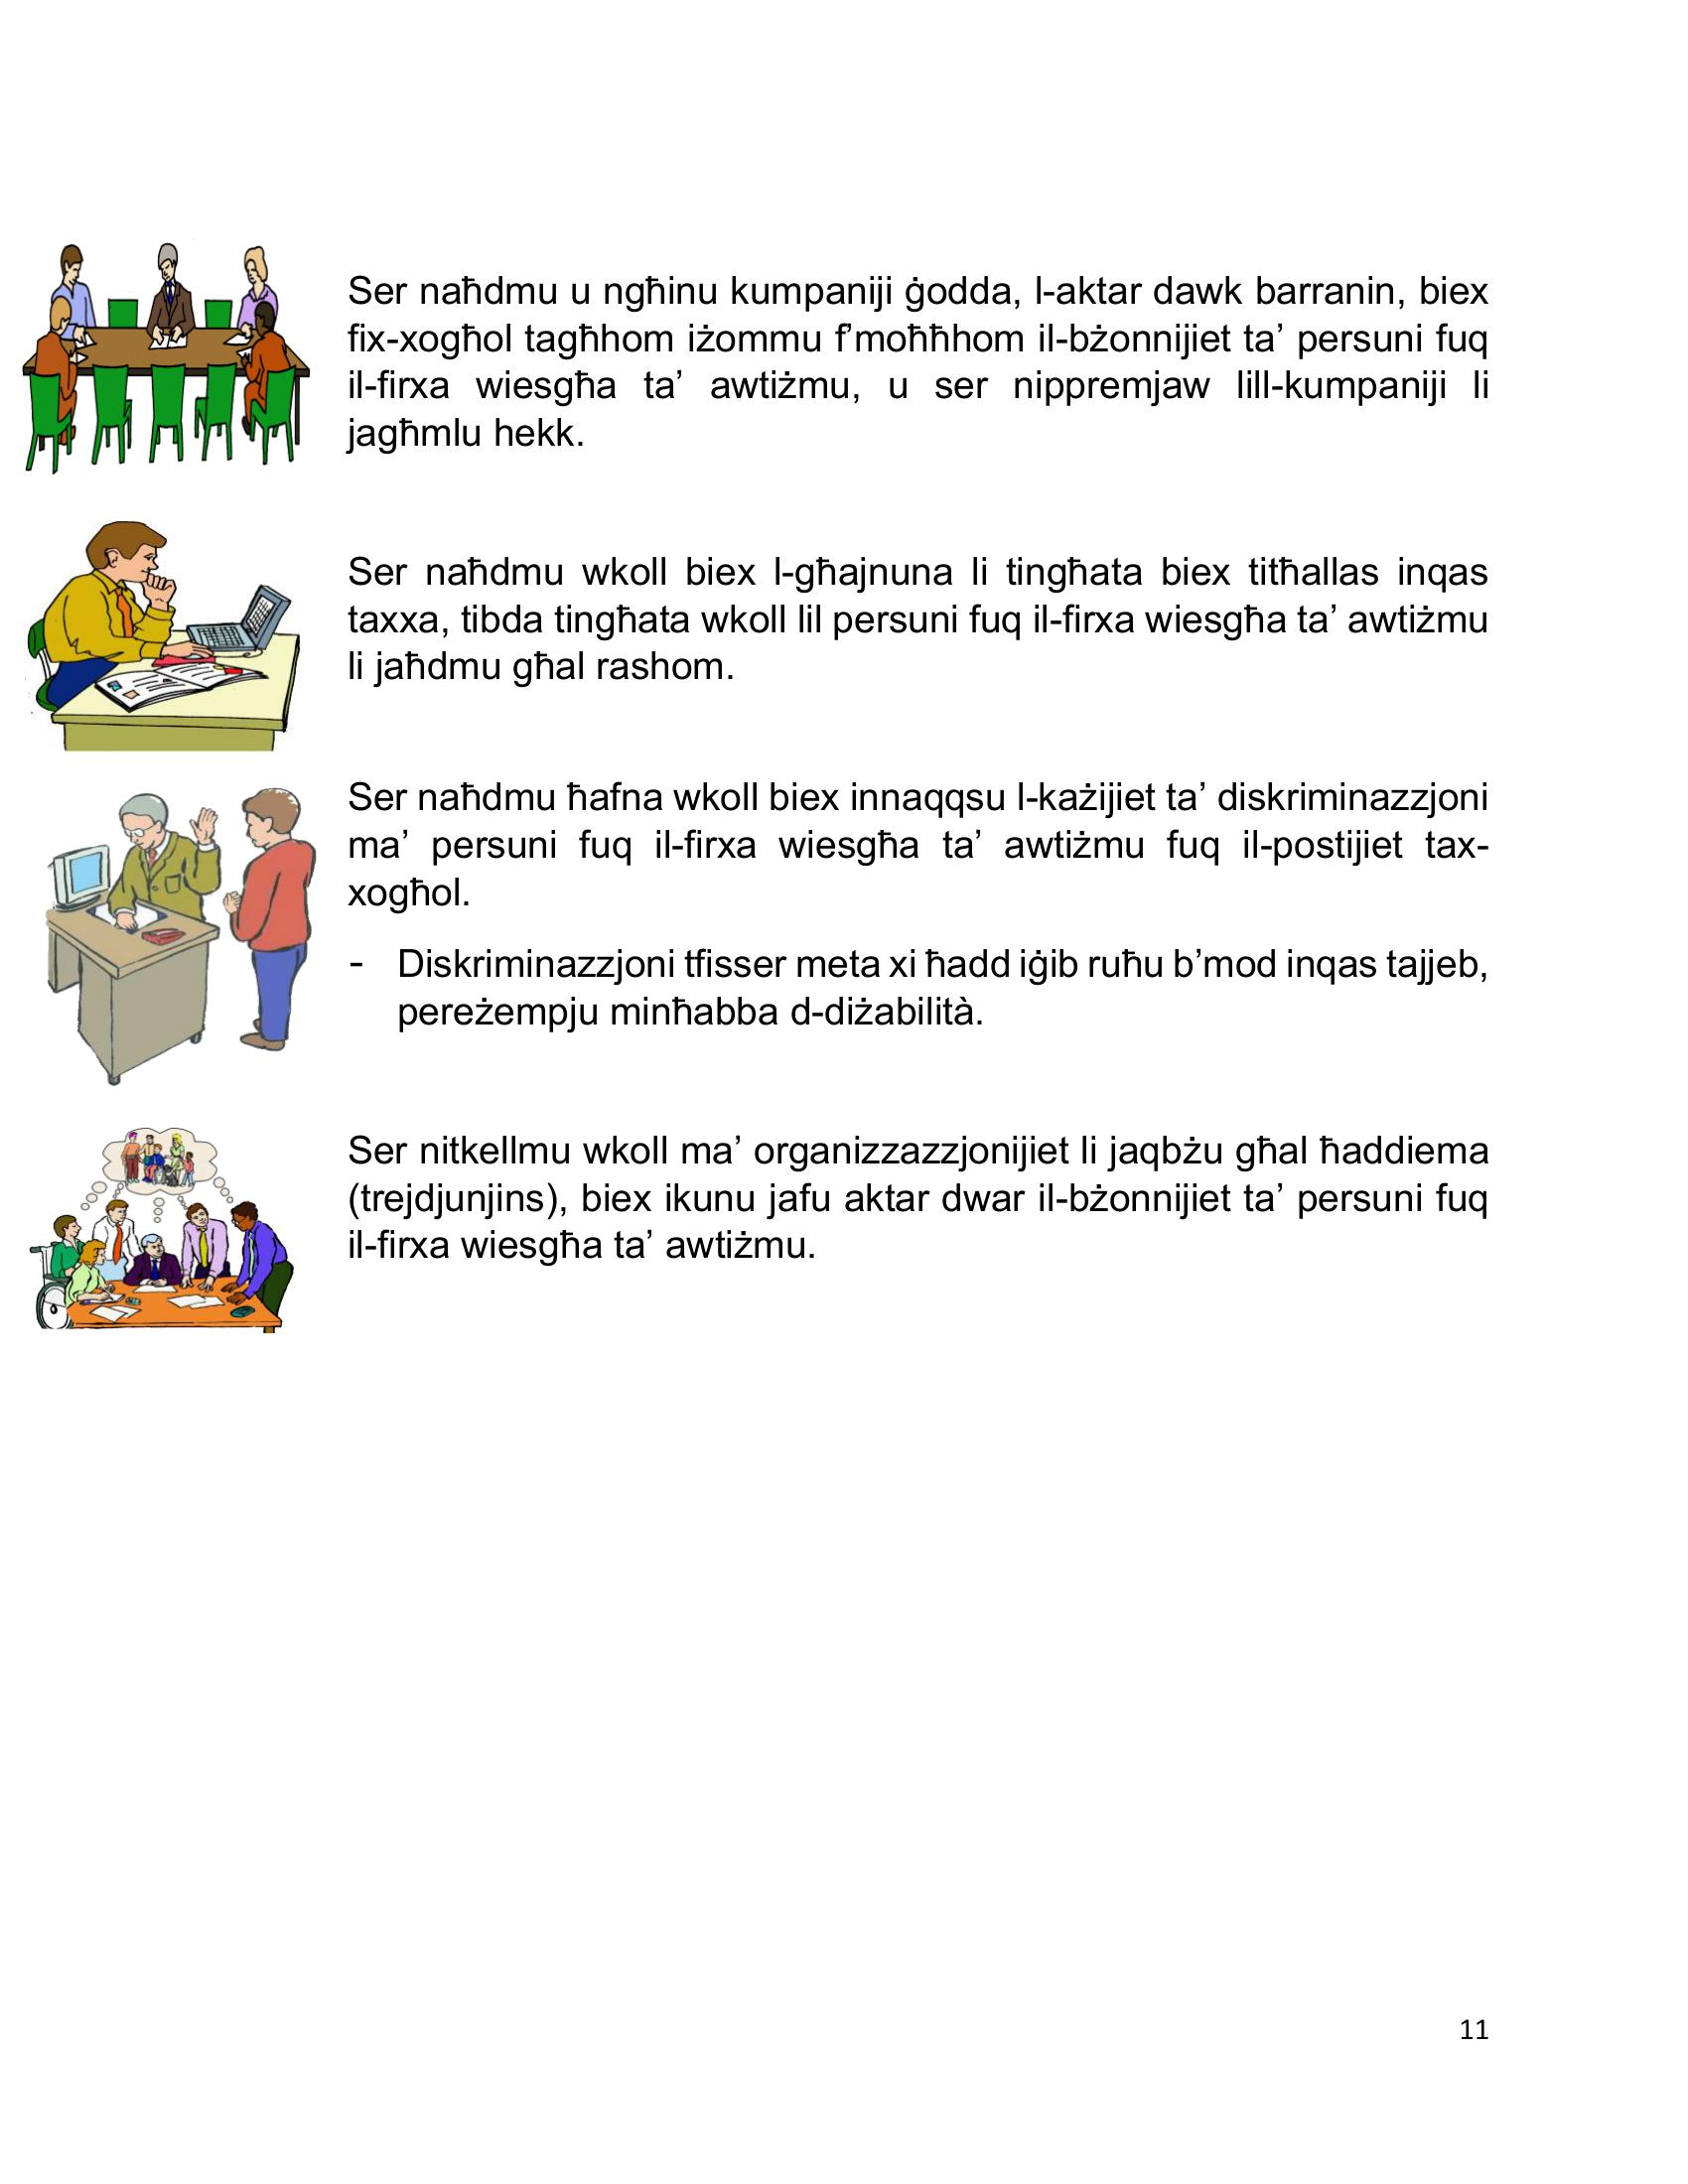text: (324, 243, 1523, 1285)
